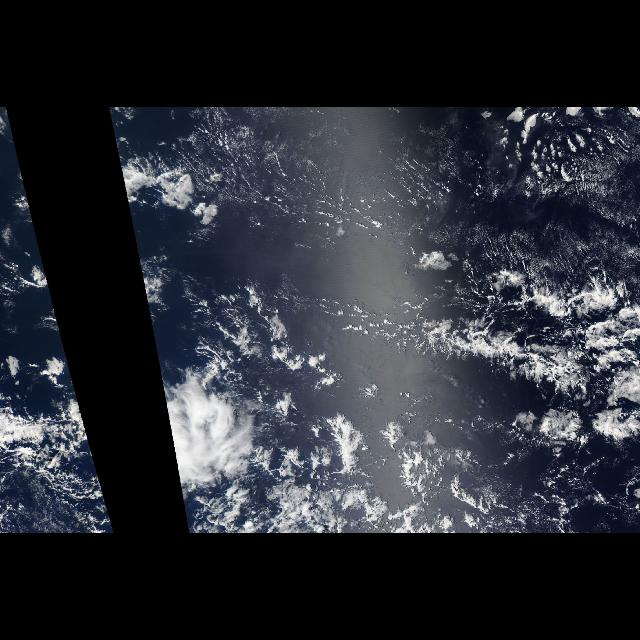Gravel: (262, 420, 542, 530)
Sugar: (108, 109, 638, 317)
